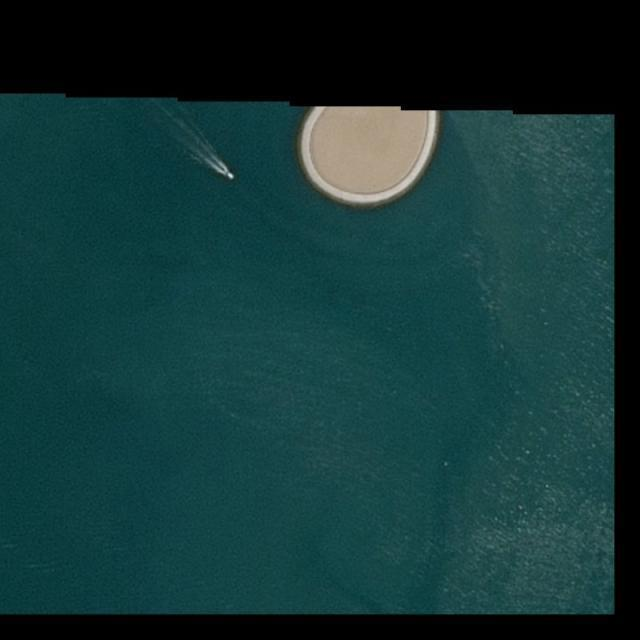ship: (225, 170, 238, 182)
